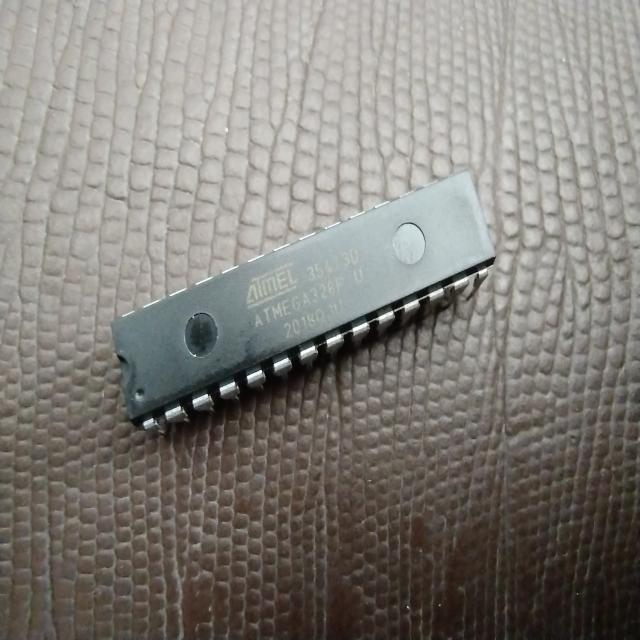atmega: (109, 166, 498, 437)
